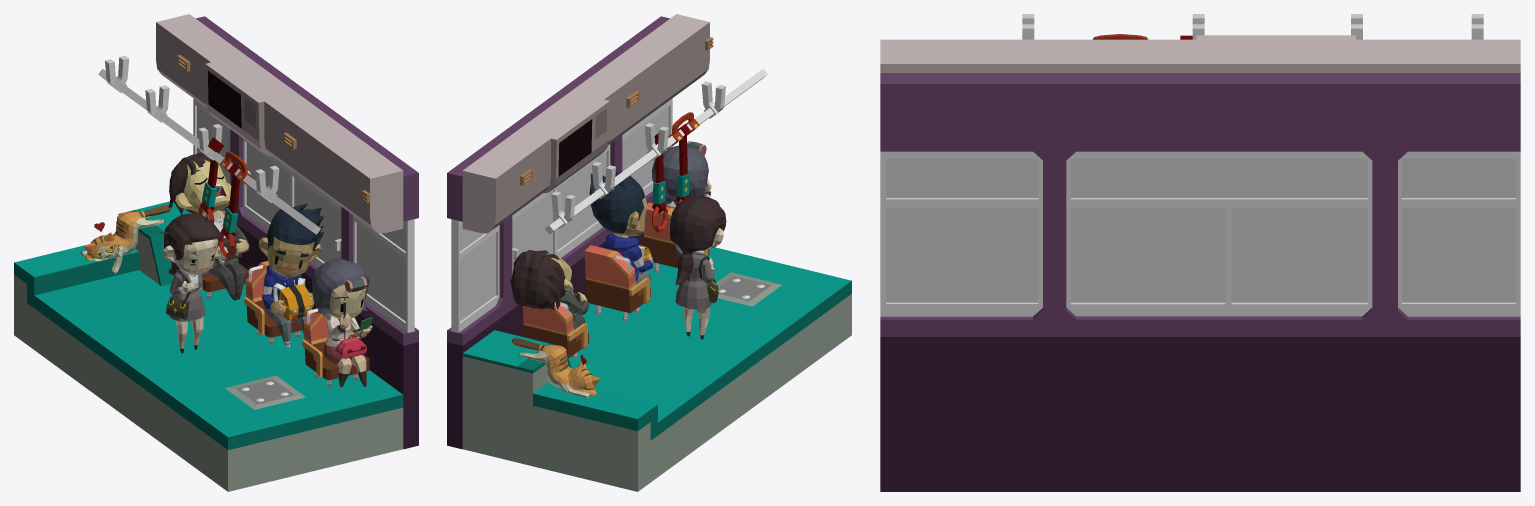
File: 0089_yura_officeGoingHour.fbx
3 views of the same model, side by side, from view 1: azimuth 30°, elevation 25°; view 2: azimuth 150°, elevation 25°; view 3: azimuth 270°, elevation 25° (orthographic). The views are drawn at different scales.
Parts seen in each view (by area): view 1: Bus_Floor01, Bus_Aircon, Bus_Wall01, window, Chair (×2), Man01_Head, Yura_Head, Woman01_Head, Man02_Head, Liquidcat, Bus_Handle04 (×4), Bus_Window_Small1 (+12 smaller); view 2: Bus_Floor01, Bus_Aircon, Bus_Wall01, window, Chair (×3), Yura_Head, Man02_Head, Man01_Head, Bus_Handle04 (×4), Liquidcat, Bus_Window_Small2, Woman01_Head (+7 smaller); view 3: Bus_Wall01, window, Bus_Aircon, Bus_Window_big, Bus_Window_Small1, Bus_Window_Small2.
Part boxes in pixels (left/top/right/bottom): Bus_Floor01: left=14, top=201, right=403, bottom=491; Bus_Aircon: left=156, top=14, right=403, bottom=233; Bus_Wall01: left=196, top=16, right=418, bottom=449; window: left=197, top=106, right=405, bottom=321; Chair (×2): left=244, top=261, right=369, bottom=380; Man01_Head: left=259, top=203, right=323, bottom=277; Yura_Head: left=159, top=213, right=221, bottom=275; Woman01_Head: left=312, top=258, right=369, bottom=320; Man02_Head: left=168, top=152, right=231, bottom=216; Liquidcat: left=80, top=204, right=172, bottom=273; Bus_Handle04 (×4): left=105, top=56, right=279, bottom=202; Bus_Window_Small1: left=353, top=215, right=414, bottom=332; Bus_Floor01: left=462, top=247, right=851, bottom=491; Bus_Aircon: left=462, top=14, right=709, bottom=233; Bus_Wall01: left=447, top=16, right=669, bottom=449; window: left=460, top=107, right=668, bottom=321; Chair (×3): left=522, top=202, right=709, bottom=357; Yura_Head: left=669, top=187, right=726, bottom=284; Man02_Head: left=510, top=250, right=573, bottom=310; Man01_Head: left=589, top=172, right=646, bottom=236; Bus_Handle04 (×4): left=551, top=81, right=725, bottom=228; Liquidcat: left=511, top=338, right=600, bottom=397; Bus_Window_Small2: left=451, top=219, right=499, bottom=332; Woman01_Head: left=652, top=145, right=708, bottom=205; Bus_Wall01: left=880, top=73, right=1520, bottom=491; window: left=886, top=158, right=1516, bottom=302; Bus_Aircon: left=880, top=35, right=1520, bottom=72; Bus_Window_big: left=1066, top=151, right=1372, bottom=316; Bus_Window_Small1: left=880, top=151, right=1042, bottom=316; Bus_Window_Small2: left=1398, top=151, right=1520, bottom=316.
Size of the model in its own units: 4.17 by 5.83 by 8.11.
